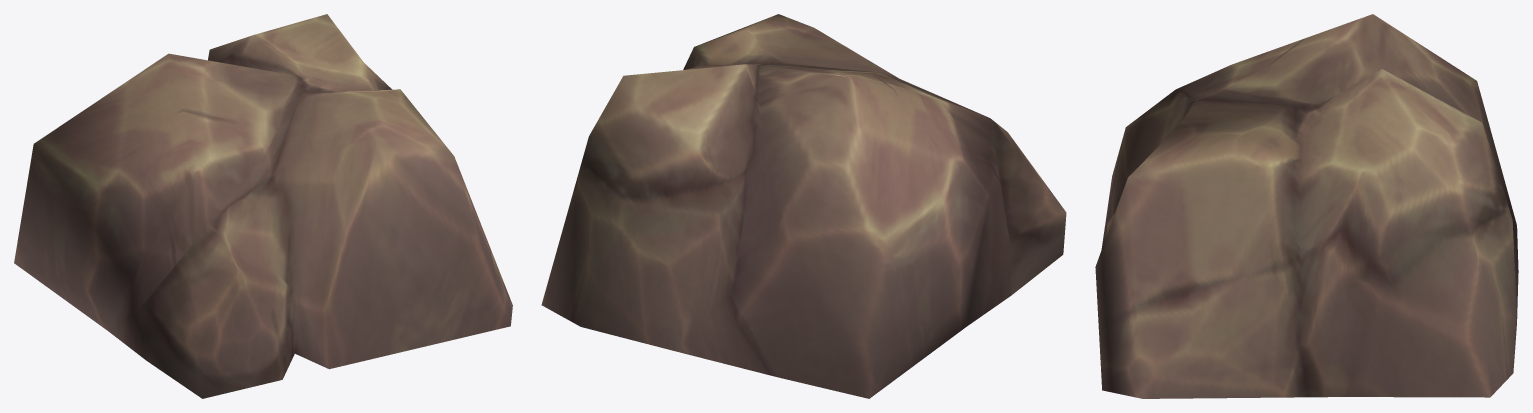
Rendered from Rock_Large.fbx.
3 renders of one model, left to right at view 1: azimuth 30°, elevation 25°; view 2: azimuth 150°, elevation 25°; view 3: azimuth 270°, elevation 25°, orthographic. The views are drawn at different scales.
Parts seen in each view (by area): view 1: Rock_Large; view 2: Rock_Large; view 3: Rock_Large.
Boxes of the visible parts, x1,y1,x2,y2 form: Rock_Large: (14,14,512,398); Rock_Large: (541,14,1066,398); Rock_Large: (1095,14,1518,398).
Size of the model in its own units: 3 by 2.01 by 2.98.
